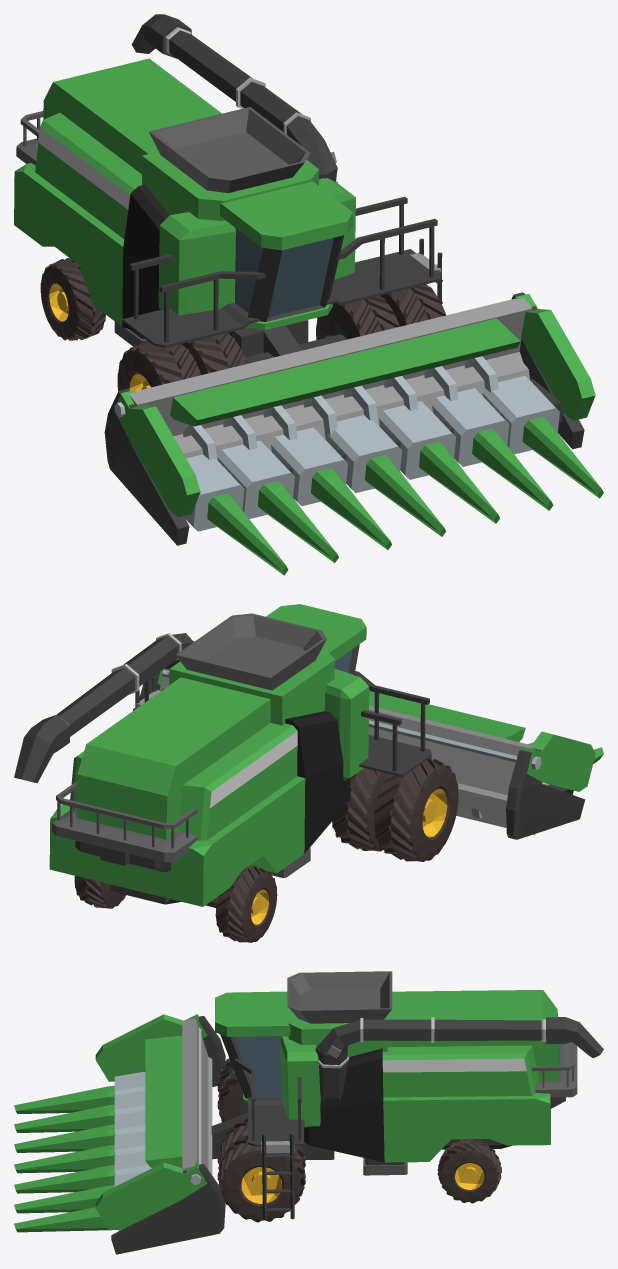
The model's file is harvester_001.glb.
The picture shows the model from 3 angles, top to bottom: view 1: azimuth 30°, elevation 25°; view 2: azimuth 150°, elevation 25°; view 3: azimuth 270°, elevation 25°; orthographic projection. The views are drawn at different scales.
Visible parts, largest first — view 1: harvester_001; view 2: harvester_001; view 3: harvester_001.
Part boxes in pixels (bbox=[...]): harvester_001: bbox=[14, 14, 603, 575]; harvester_001: bbox=[14, 604, 603, 942]; harvester_001: bbox=[14, 971, 603, 1254].
Bounding box in the file's own units: 7.06 × 4.03 × 11.28.
1 material, 1 textured.
